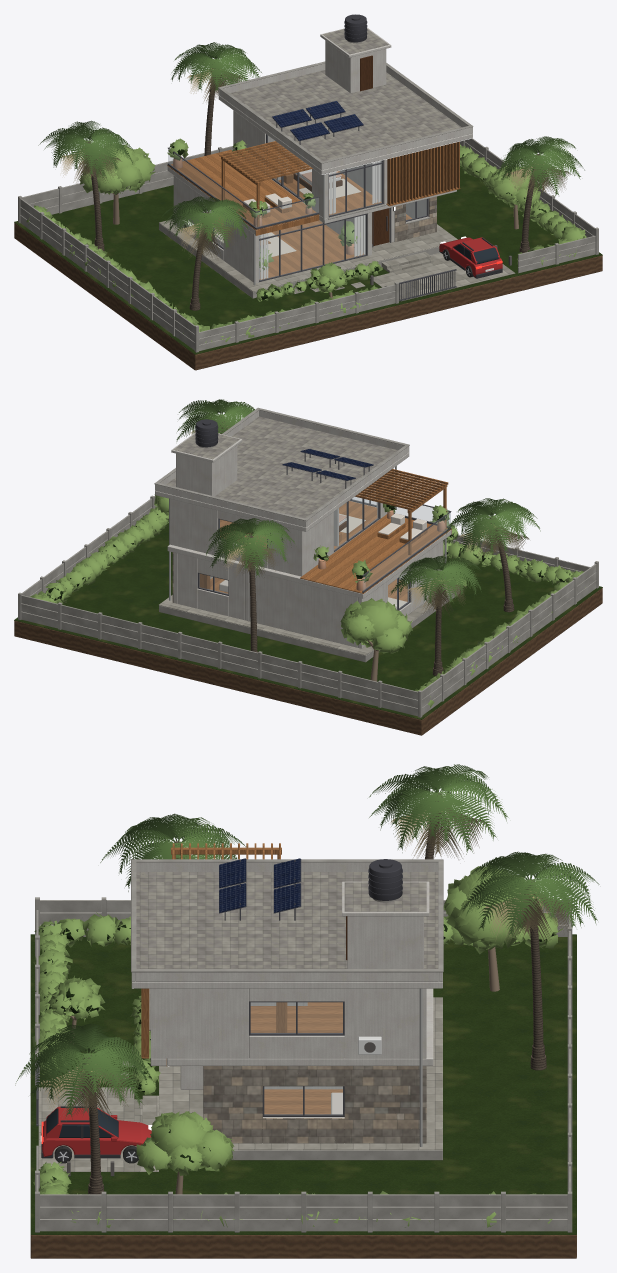
The model's file is house.glb.
The picture shows the model from 3 angles, top to bottom: view 1: azimuth 30°, elevation 25°; view 2: azimuth 150°, elevation 25°; view 3: azimuth 270°, elevation 25°; orthographic projection. The views are drawn at different scales.
Visible parts, largest first — view 1: site.grass, site.concrete, roof.terrace, upper.wood, site.soil, roof.plaster, site.paving, site.foliage, ground.glass, upper.glass, ground.plaster, ground.wood (+27 smaller); view 2: site.grass, site.concrete, ground.plaster, roof.terrace, site.soil, upper.wood, roof.plaster, site.foliage, upper.plaster, upper.glass, palm_0.palm, palm_2.palm (+18 smaller); view 3: site.grass, site.concrete, roof.terrace, upper.plaster, ground.stone, site.soil, roof.plaster, site.paving, site.foliage, palm_1.palm, palm_2.palm, palm_3.palm (+20 smaller).
Boxes of the visible parts, x1,y1,x2,y2 form: site.grass: (14, 165, 602, 354); site.concrete: (18, 138, 598, 352); roof.terrace: (230, 29, 461, 161); upper.wood: (167, 141, 460, 230); site.soil: (14, 223, 602, 370); roof.plaster: (218, 27, 472, 174); site.paving: (159, 219, 515, 301); site.foliage: (26, 144, 586, 342); ground.glass: (204, 199, 426, 280); upper.glass: (168, 136, 381, 227); ground.plaster: (167, 166, 456, 283); ground.wood: (206, 212, 411, 280); site.grass: (14, 521, 602, 719); site.concrete: (18, 495, 598, 717); ground.plaster: (167, 500, 451, 648); roof.terrace: (166, 416, 397, 518); site.soil: (14, 588, 602, 735); upper.wood: (220, 469, 451, 593); roof.plaster: (155, 410, 409, 531); site.foliage: (29, 507, 585, 707); upper.plaster: (169, 468, 393, 576); upper.glass: (219, 497, 450, 590); palm_0.palm: (443, 498, 540, 553); palm_2.palm: (206, 518, 294, 577); site.grass: (30, 934, 576, 1234); site.concrete: (35, 897, 572, 1232); roof.terrace: (136, 872, 438, 968); upper.plaster: (150, 988, 426, 1058); ground.stone: (203, 1066, 426, 1143); site.soil: (30, 1235, 576, 1258); roof.plaster: (131, 862, 442, 988); site.paving: (38, 997, 442, 1171); site.foliage: (32, 912, 563, 1227); palm_1.palm: (369, 764, 508, 854); palm_2.palm: (462, 851, 599, 938); palm_3.palm: (15, 1023, 153, 1119).
Size of the model in its own units: 26.66 by 12.13 by 21.56.
37 materials, 12 textured.
